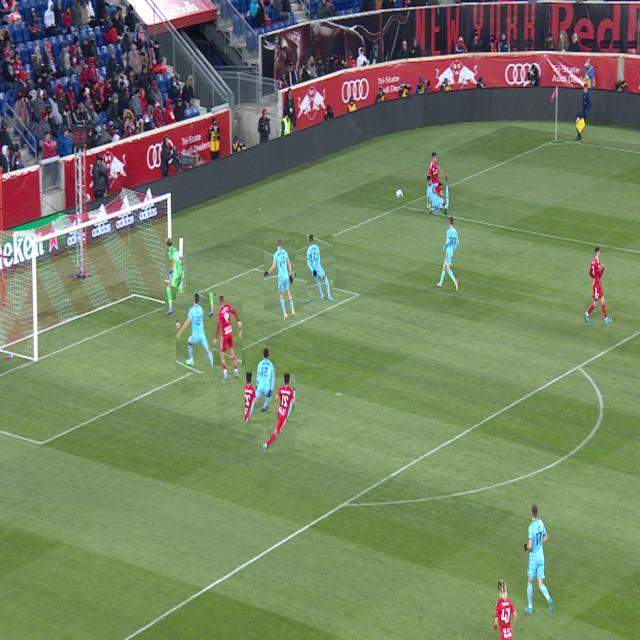football: (397, 190, 402, 199)
goalkeeper: (165, 239, 186, 315)
player: (524, 505, 554, 615), (177, 293, 216, 373), (263, 374, 295, 452), (213, 297, 242, 382), (265, 240, 295, 320), (245, 348, 275, 421), (585, 248, 612, 324), (307, 236, 333, 300), (437, 217, 459, 290), (495, 581, 517, 640), (428, 152, 446, 208), (429, 175, 449, 215)
